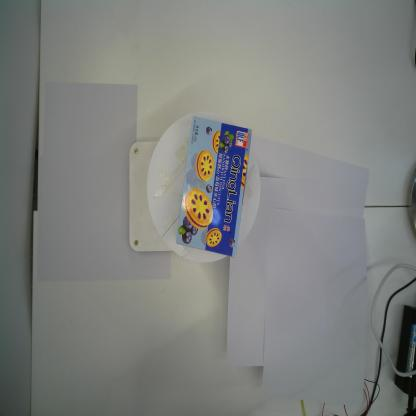Dessert: (174, 115, 252, 259)
